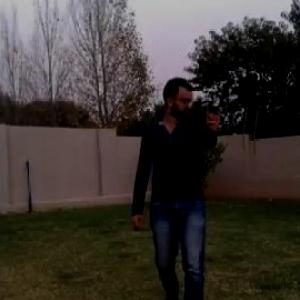takeoff-hand: (203, 97, 231, 139)
